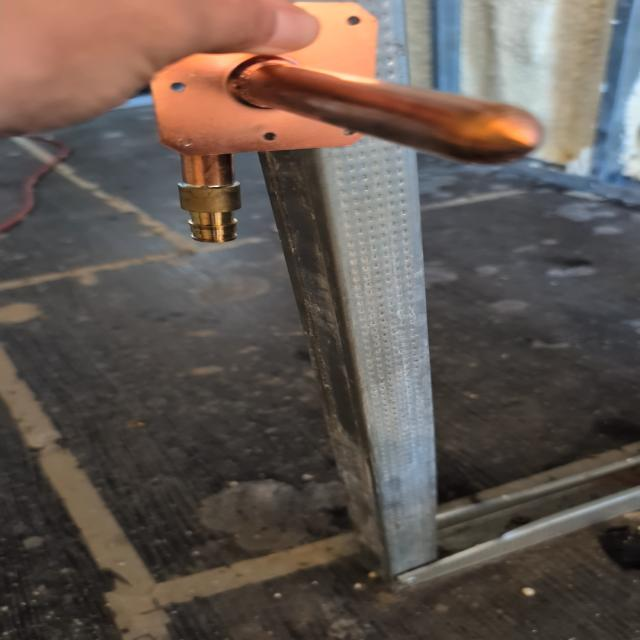wall_flange: (139, 2, 553, 248)
